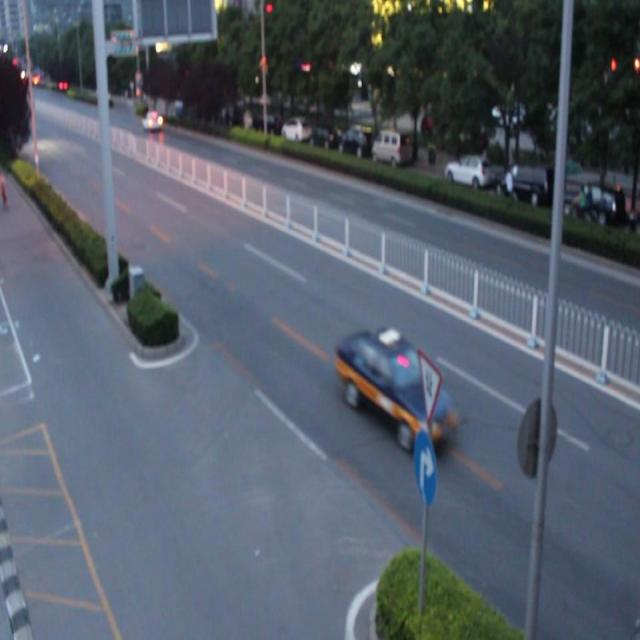car: (332, 329, 454, 447)
